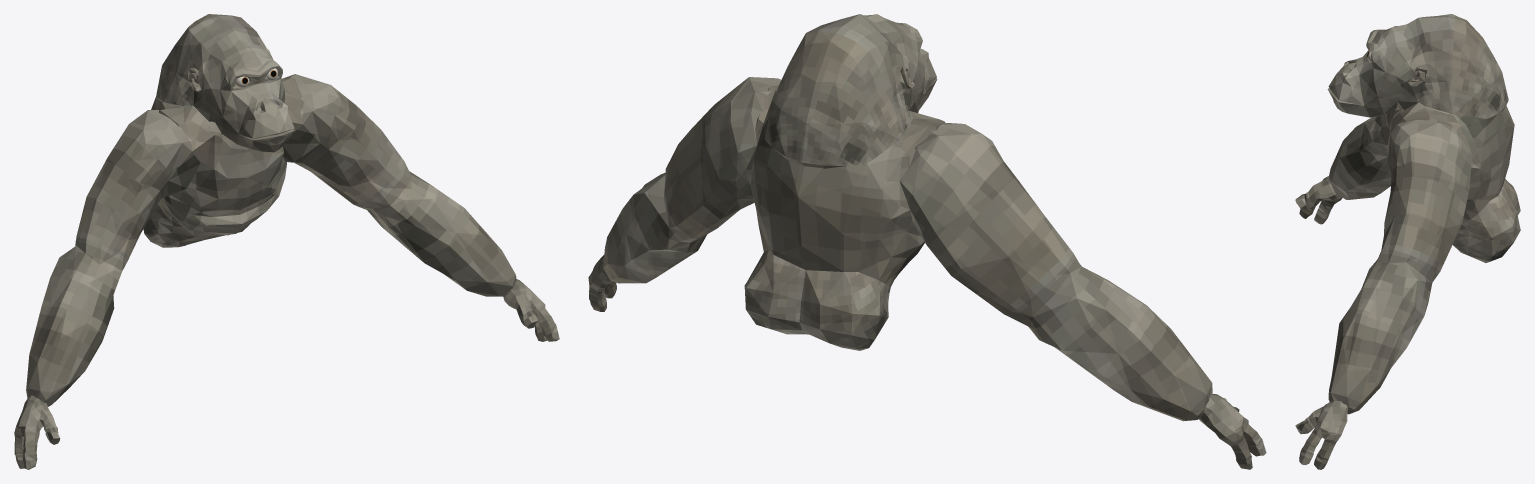
File: player.glb
3 renders of one model, left to right at view 1: azimuth 30°, elevation 25°; view 2: azimuth 150°, elevation 25°; view 3: azimuth 270°, elevation 25°, orthographic. The views are drawn at different scales.
Parts seen in each view (by area): view 1: Body_Arm_R, Body_Arm_L, Body_Head, Body_Torso, Body_Butt #9362; view 2: Body_Arm_R, Body_Head, Body_Torso, Body_Arm_L, Body_Butt #9362; view 3: Body_Arm_L, Body_Head, Body_Arm_R, Body_Torso, Body_Butt #9362.
Part boxes in pixels (box(x1,y1,x2,y2)): Body_Arm_R: box(14, 110, 200, 469); Body_Arm_L: box(283, 74, 559, 341); Body_Head: box(156, 14, 294, 152); Body_Torso: box(151, 77, 302, 236); Body_Butt #9362: box(143, 204, 249, 247); Body_Arm_R: box(899, 123, 1266, 469); Body_Head: box(765, 14, 937, 168); Body_Torso: box(746, 85, 945, 286); Body_Arm_L: box(588, 77, 781, 311); Body_Butt #9362: box(744, 250, 890, 350); Body_Arm_L: box(1295, 117, 1472, 469); Body_Head: box(1327, 14, 1508, 118); Body_Arm_R: box(1295, 113, 1391, 224); Body_Torso: box(1386, 102, 1514, 223); Body_Butt #9362: box(1452, 178, 1520, 262).
Bounding box in the file's own units: 1.57 × 0.9551 × 0.5941.
Materials: 7 (7 with a texture image).
